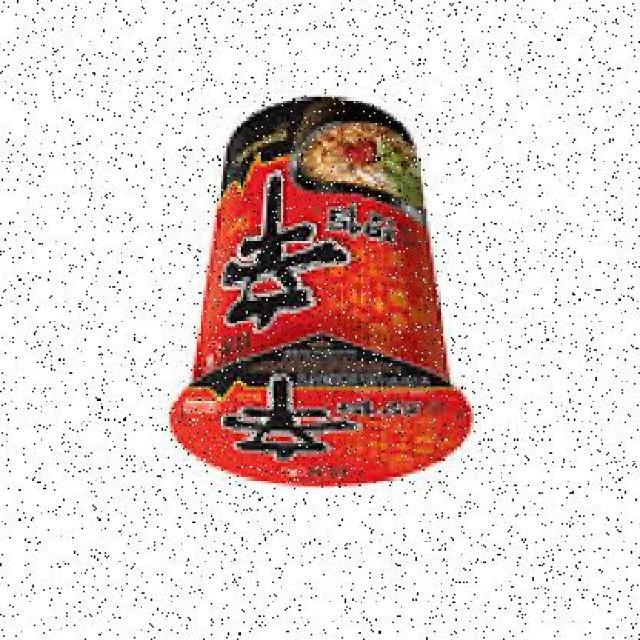Miscellaneous: (161, 90, 477, 498)
